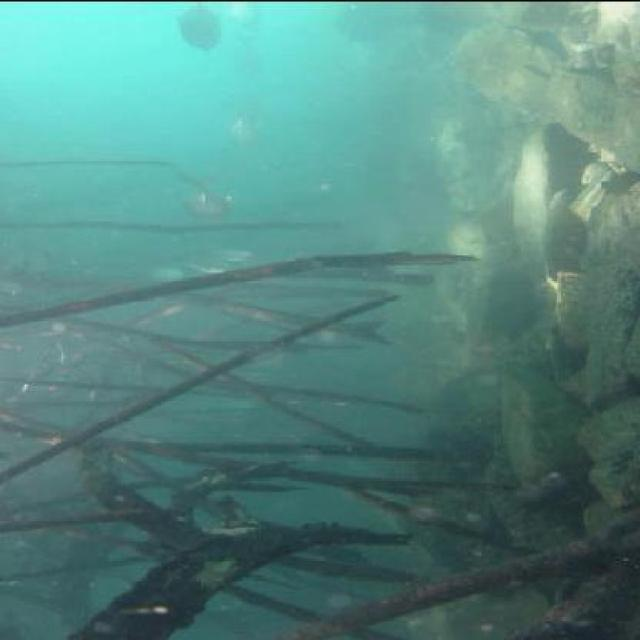Caranx_sexfasciatus_juvenile: (171, 169, 240, 223), (218, 91, 268, 146), (171, 0, 226, 48), (224, 30, 270, 78), (226, 1, 274, 32), (211, 243, 264, 265)
